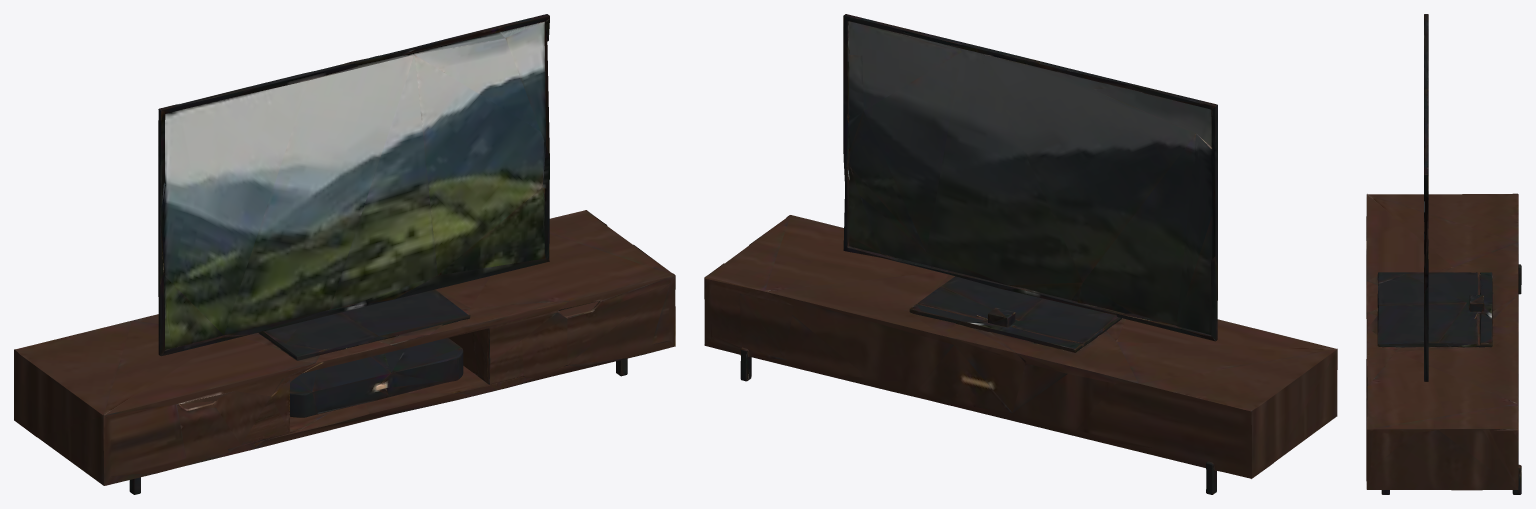
Rendered from tv-console-v1.glb.
3 views of the same model, side by side, from view 1: azimuth 30°, elevation 25°; view 2: azimuth 150°, elevation 25°; view 3: azimuth 270°, elevation 25° (orthographic). The views are drawn at different scales.
Size of the model in its own units: 1.8 by 1.06 by 0.5001.
Materials: 1 (1 with a texture image).
